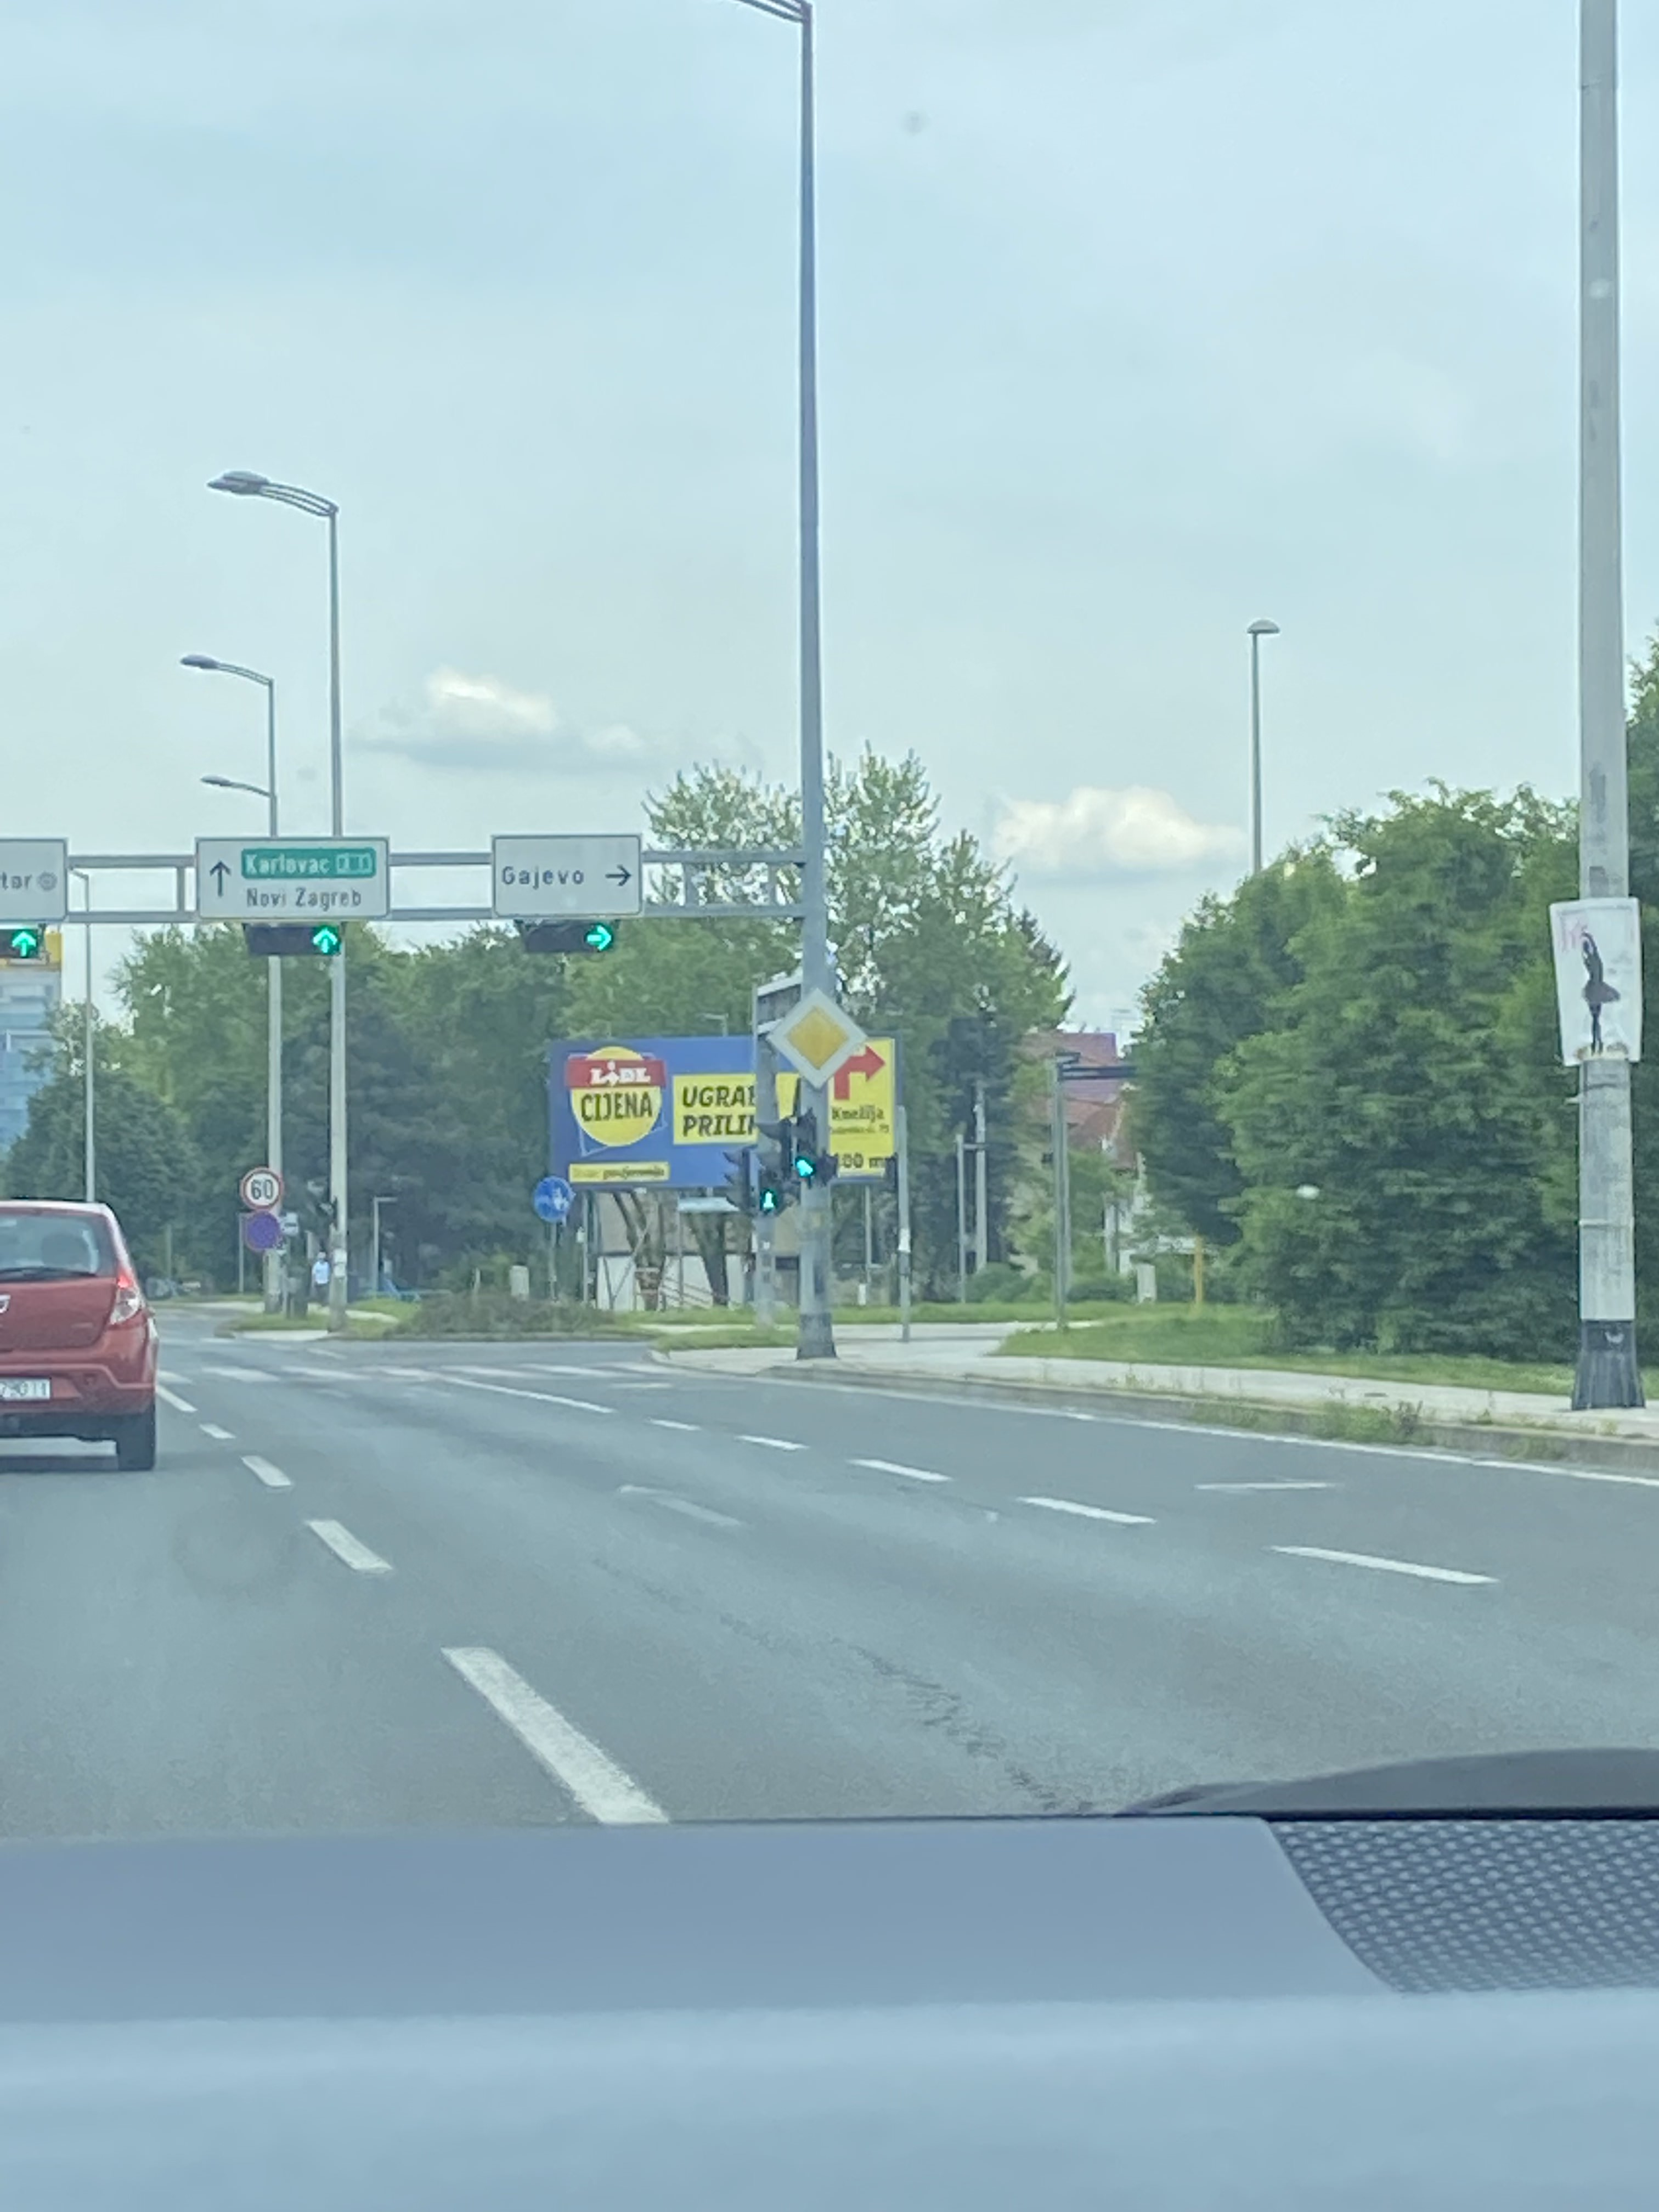Cesta s prednošću prolaska: (765, 988, 870, 1090)
Ograničenje brzine 60: (240, 1167, 282, 1211)
